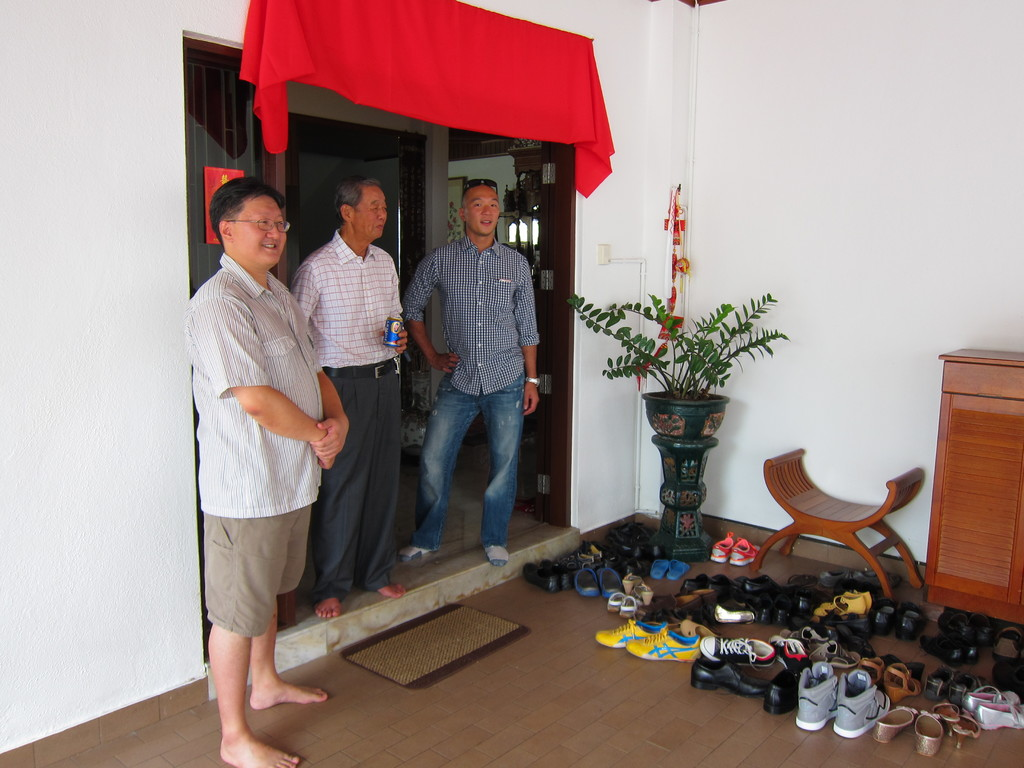Footwear: (509, 516, 1023, 740), (710, 529, 763, 566), (973, 704, 1022, 730)
